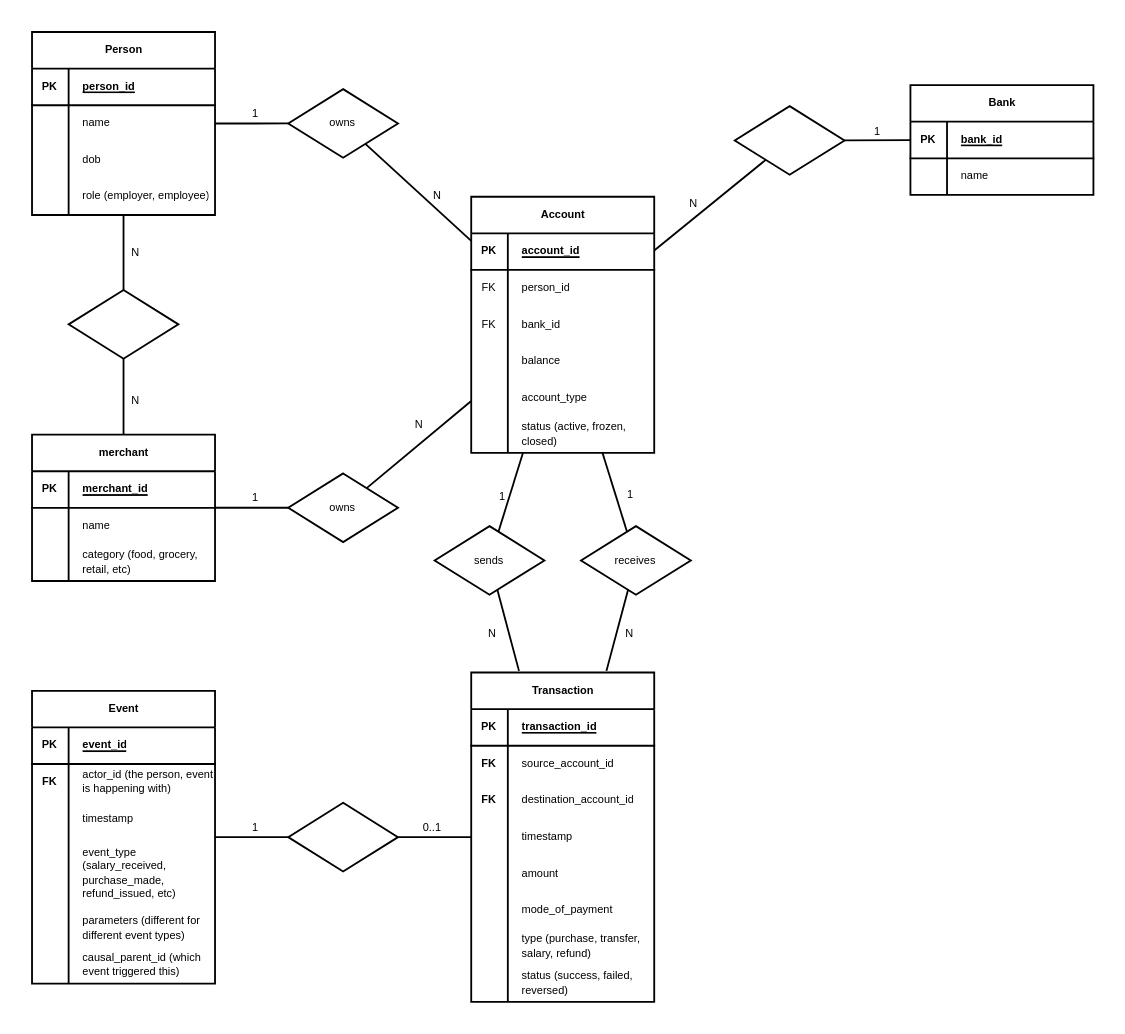
This 1125x1034 diagram has some shape labels left out. The shapes that lost their labels are listed below. From the top down, each one's box as (x1, y1, x2, y2) in pixels, then its label:
(733, 104, 845, 175): held_by
(67, 288, 178, 359): pays
(286, 801, 398, 871): causes
